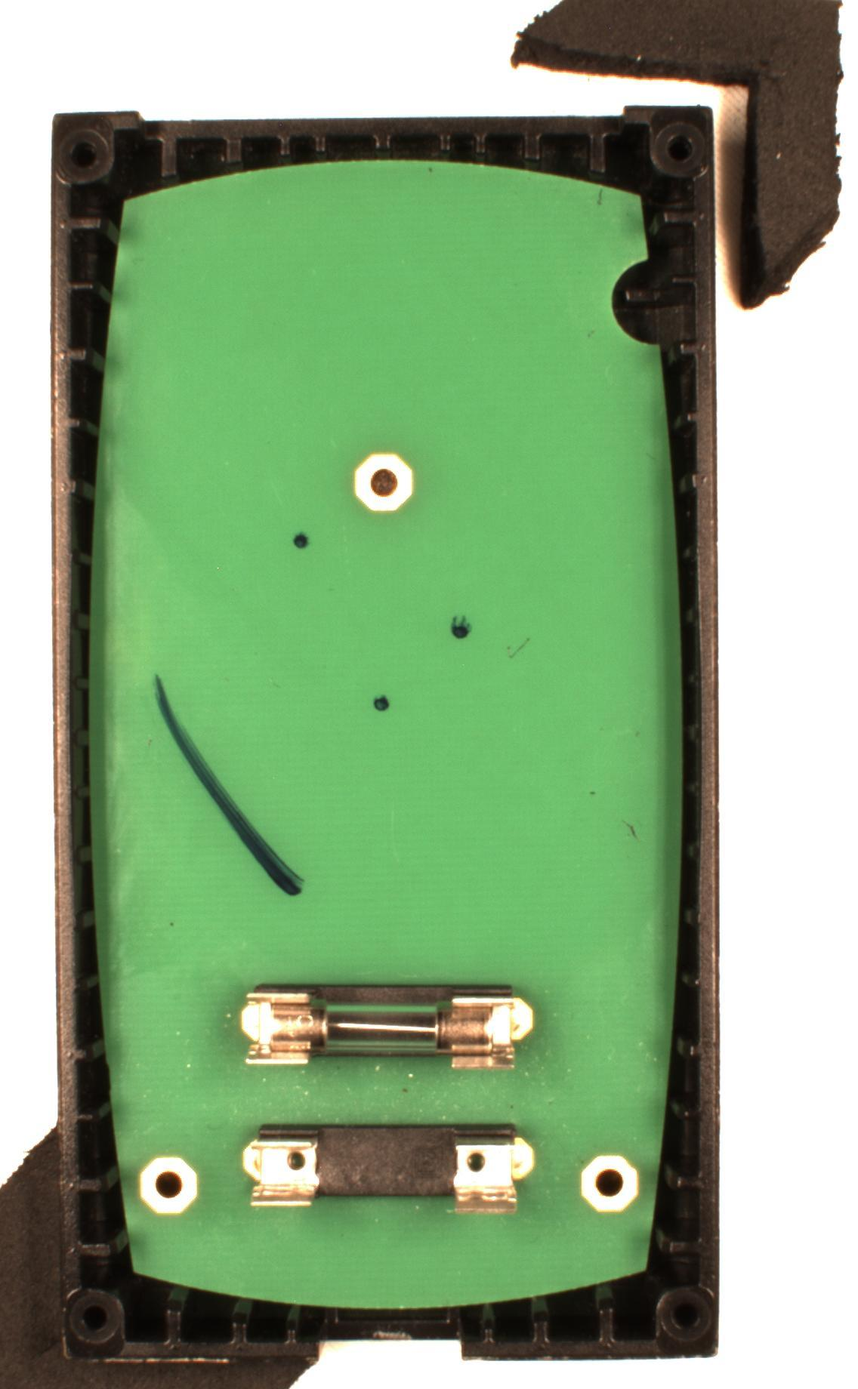Linijsko Ostecene: (148, 672, 308, 905)
Nepostojanje osiguraca: (237, 1117, 538, 1219)
Tockasto Ostecenje: (448, 613, 473, 641), (289, 529, 315, 552), (369, 691, 391, 715)
